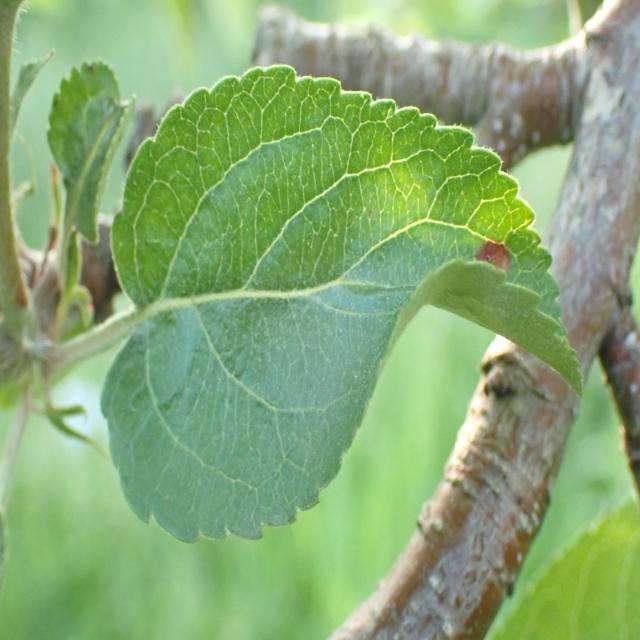frog-eye-leaf-spot: (99, 62, 583, 544)
